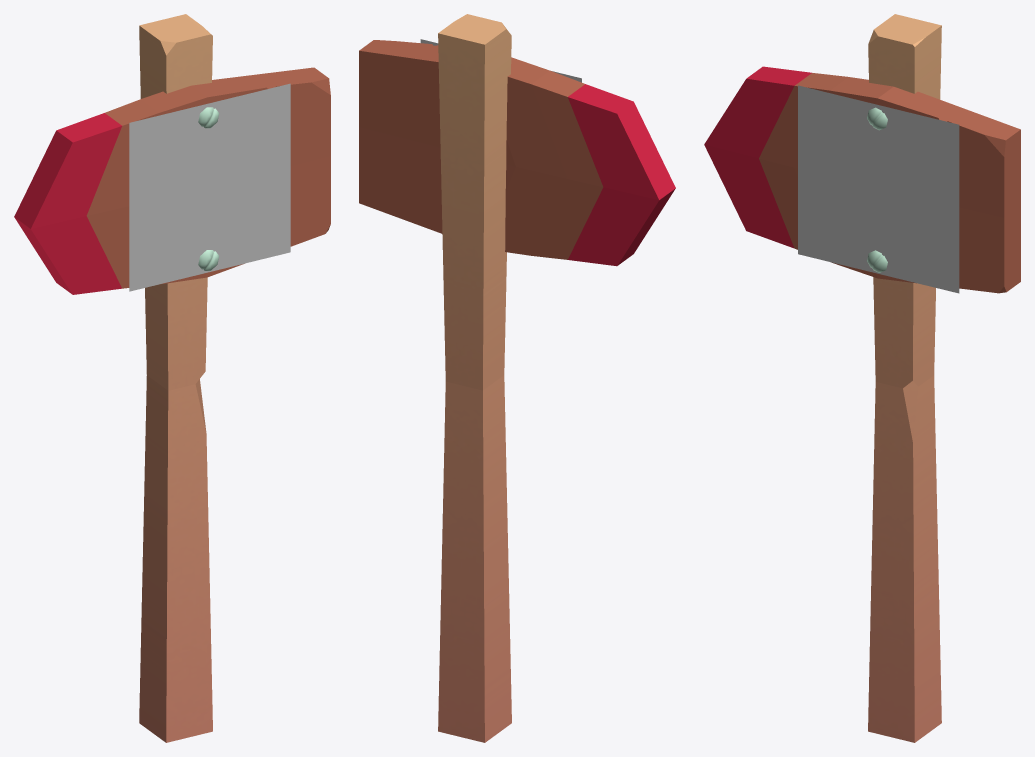
The model's file is signDirectionBoss.fbx.
3 views of the same model, side by side, from view 1: azimuth 30°, elevation 25°; view 2: azimuth 150°, elevation 25°; view 3: azimuth 330°, elevation 25° (orthographic).
Visible parts, largest first — view 1: Plane.029; view 2: Plane.029; view 3: Plane.029.
Boxes of the visible parts, x1=… form: Plane.029: x1=14, y1=14, x2=330, y2=742; Plane.029: x1=359, y1=14, x2=675, y2=742; Plane.029: x1=704, y1=14, x2=1020, y2=742.
Bounding box in the file's own units: 101 × 224 × 26.65.
